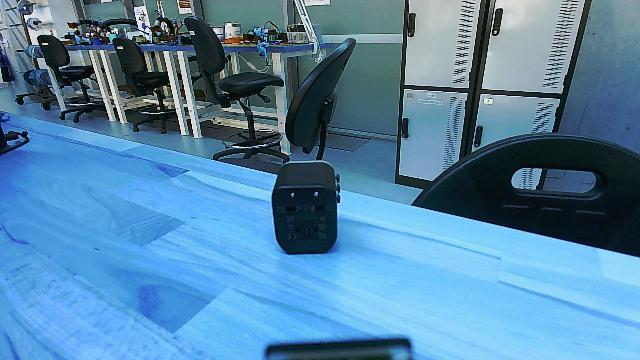adapter: (266, 153, 342, 260)
